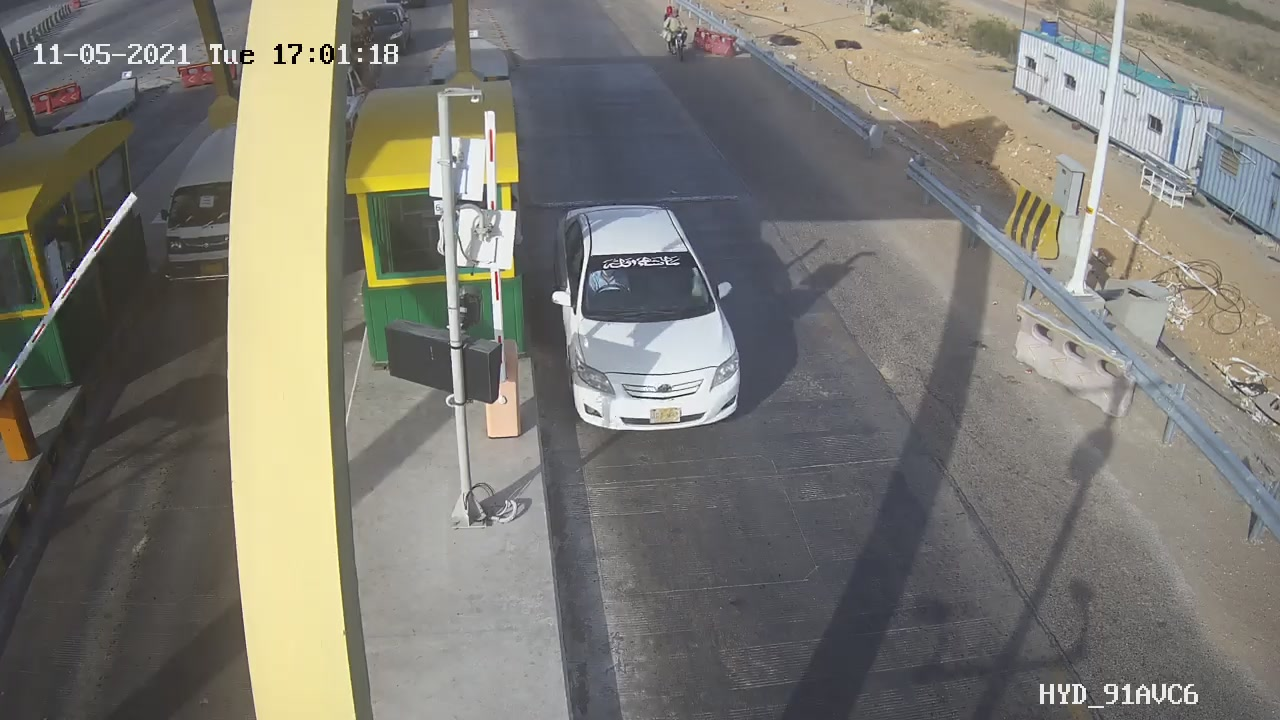F1: (530, 183, 768, 448)
